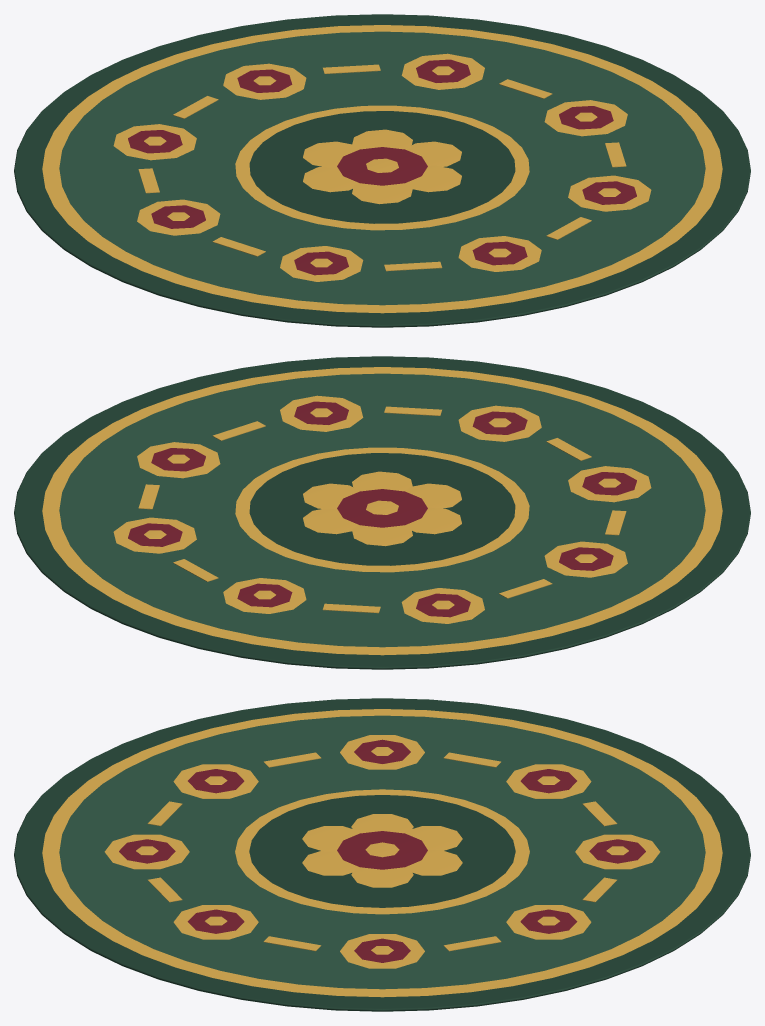
File: rug-round.glb
The picture shows the model from 3 angles, top to bottom: view 1: azimuth 30°, elevation 25°; view 2: azimuth 150°, elevation 25°; view 3: azimuth 270°, elevation 25°; orthographic projection.
Parts seen in each view (by area): view 1: rug-round; view 2: rug-round; view 3: rug-round.
Part boxes in pixels (x1,y1,x2,y2): rug-round: (14,14,750,327); rug-round: (14,356,750,669); rug-round: (14,698,750,1011).
Size of the model in its own units: 2.6 by 0.027 by 2.6.
